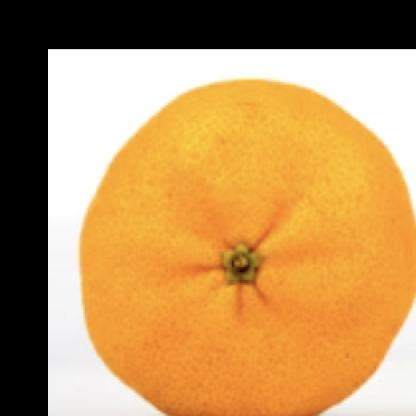fresh: (81, 81, 416, 416)
